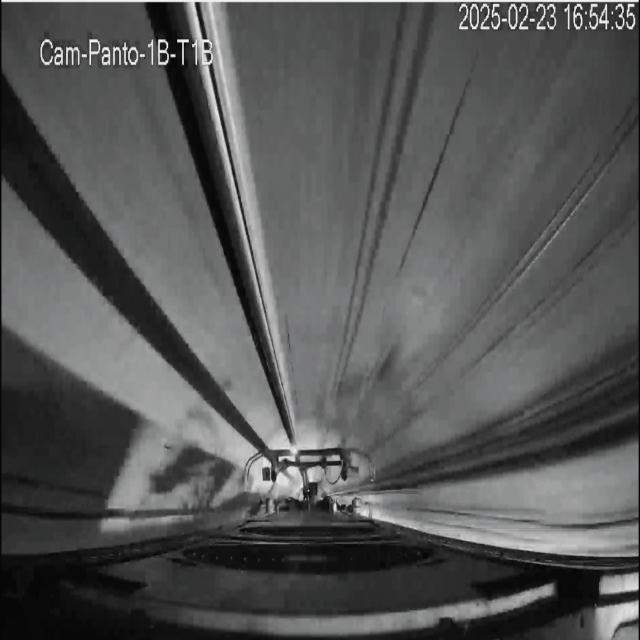Camera Stamp: (39, 31, 220, 69)
Date Stamp: (457, 0, 639, 48)
Sparks: (284, 437, 302, 460)
